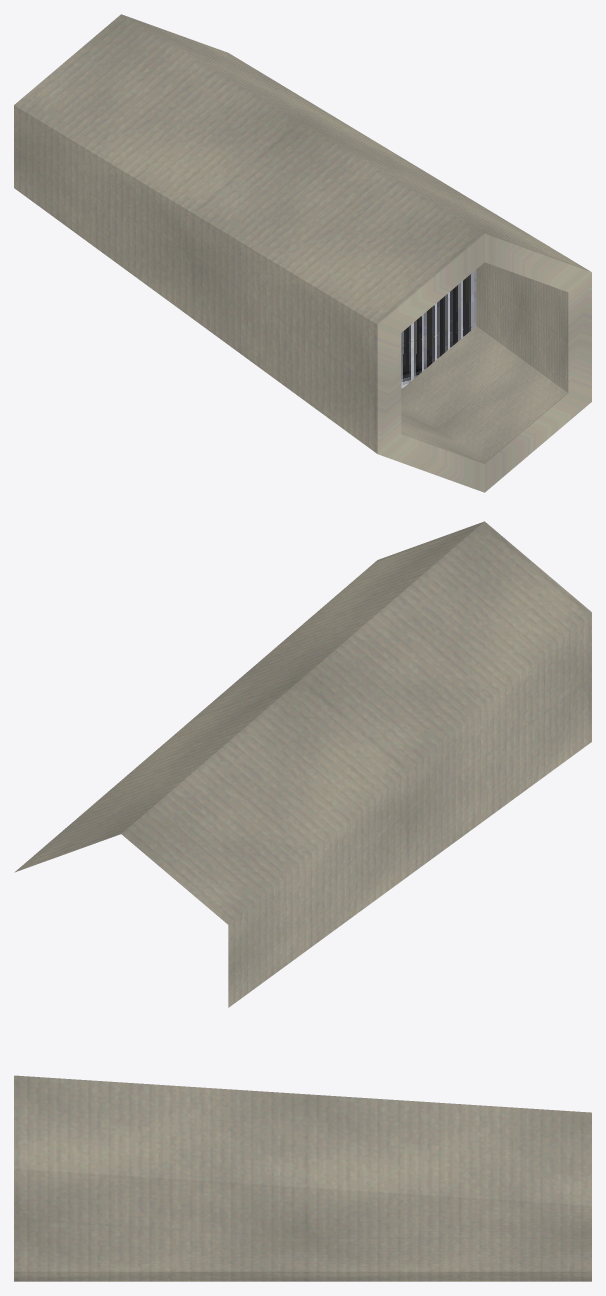
3 views of the same model, one above another, from view 1: azimuth 30°, elevation 25°; view 2: azimuth 150°, elevation 25°; view 3: azimuth 270°, elevation 25° (orthographic). The views are drawn at different scales.
Parts seen in each view (by area): view 1: Tube02; view 2: Tube02; view 3: Tube02.
Boxes of the visible parts, <box> form: Tube02: <box>14,14,591,492</box>; Tube02: <box>14,521,591,1007</box>; Tube02: <box>14,1075,591,1281</box>.
Size of the model in its own units: 718 by 830 by 2110.
2 materials, 2 textured.
